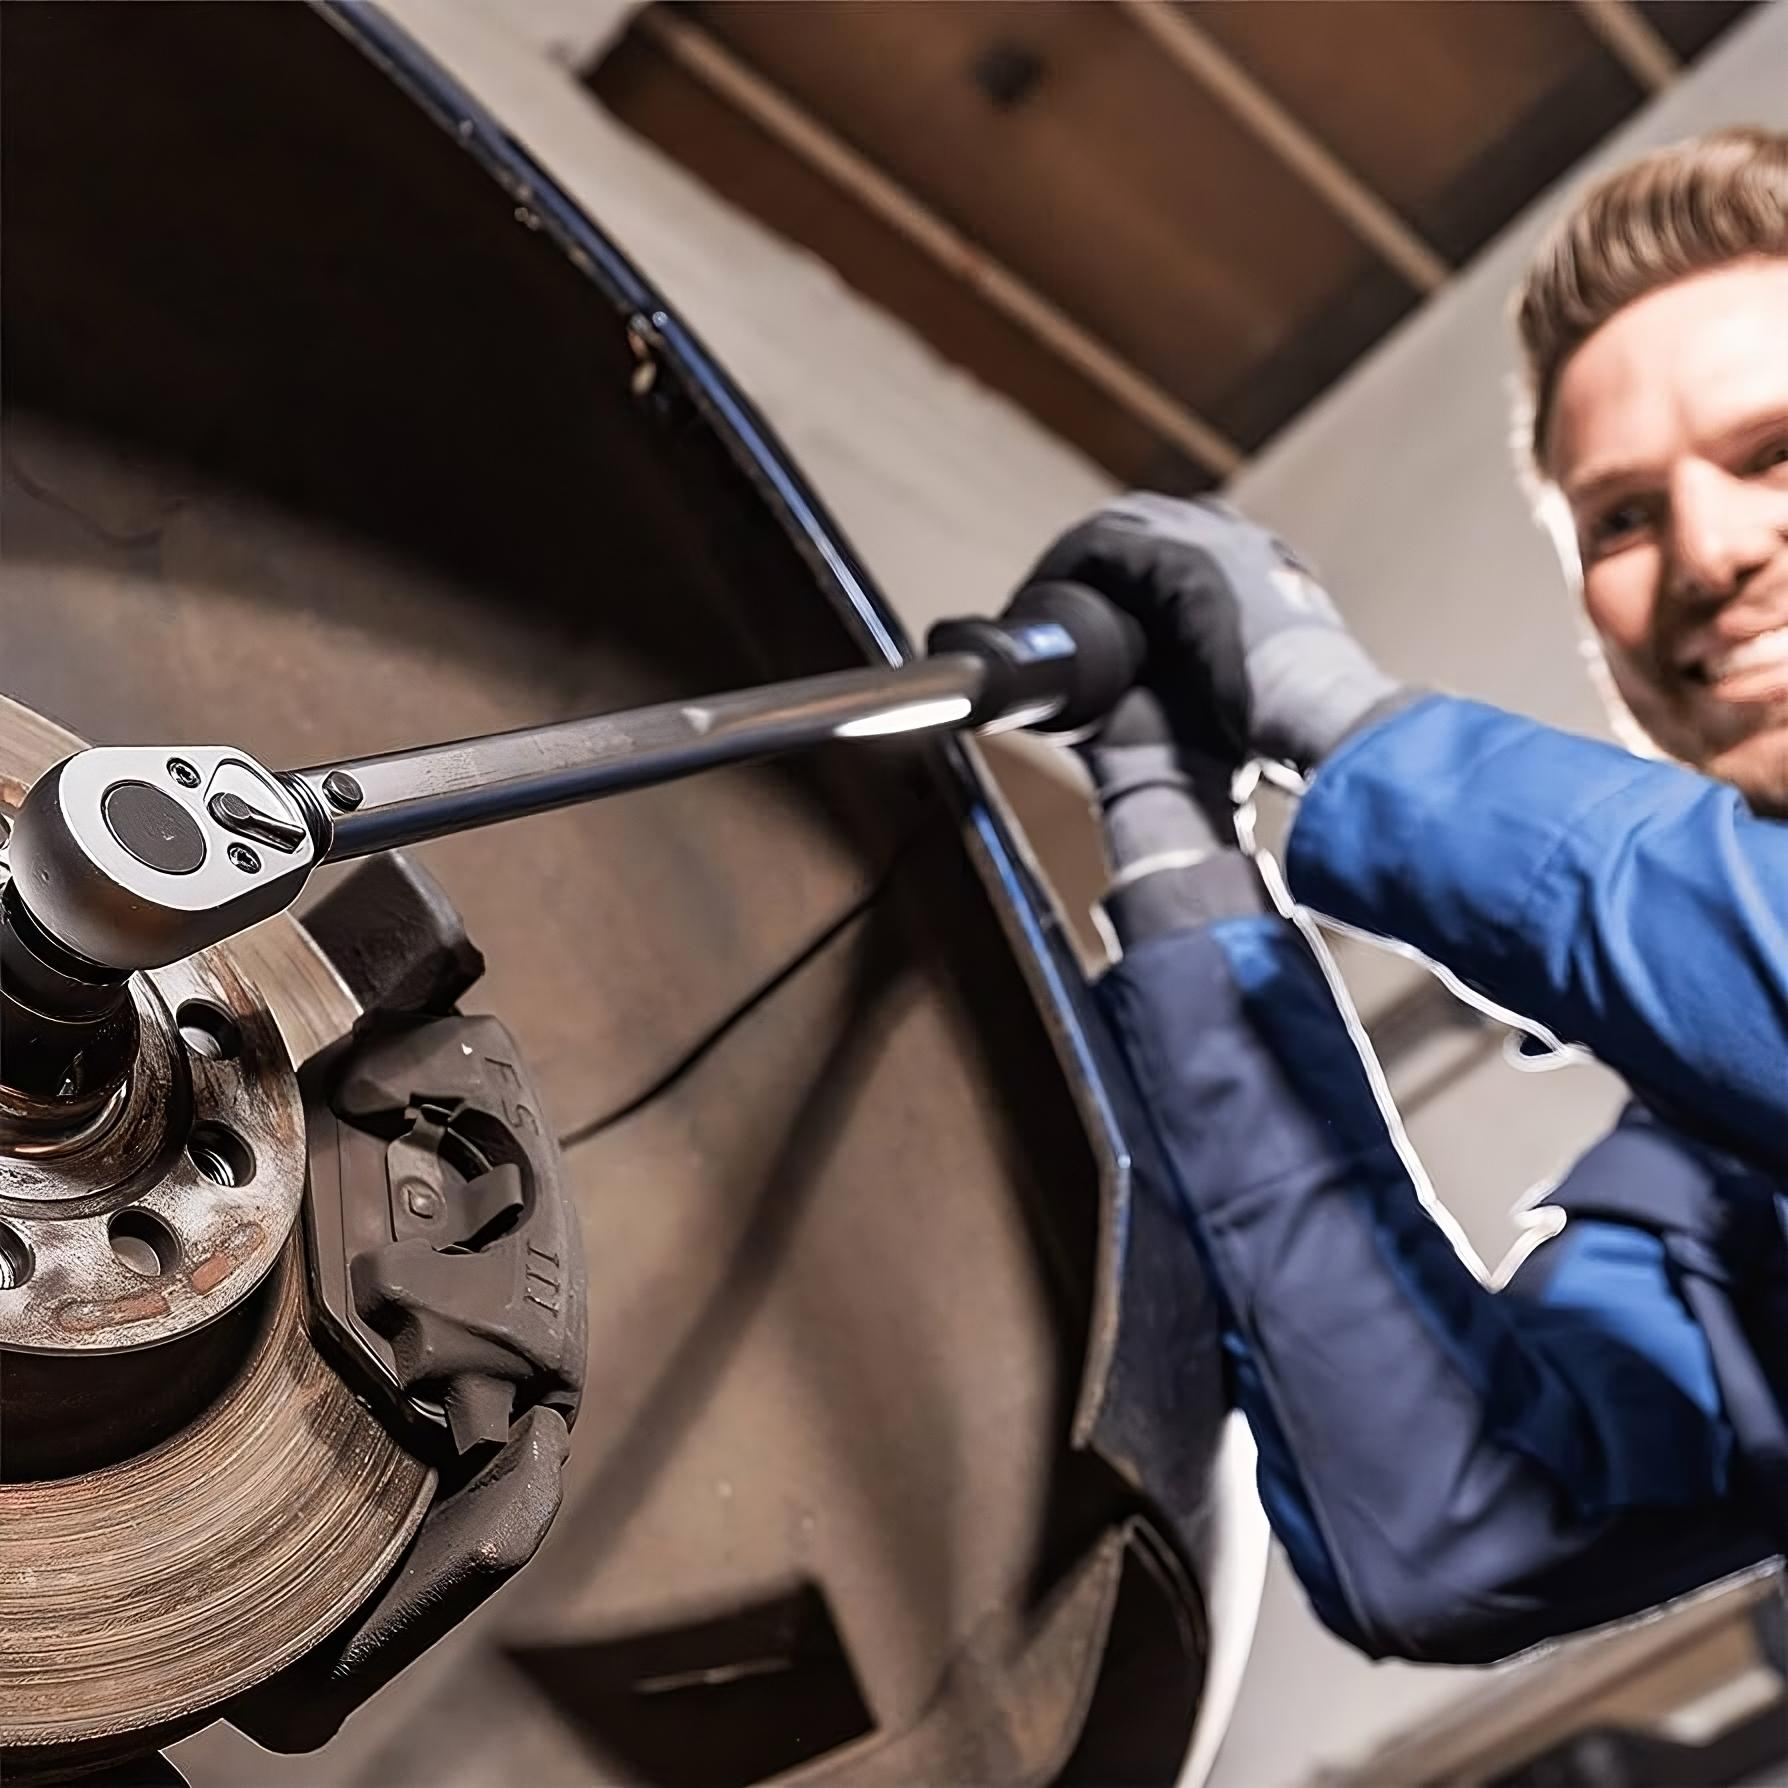Tool: (36, 748, 331, 930)
